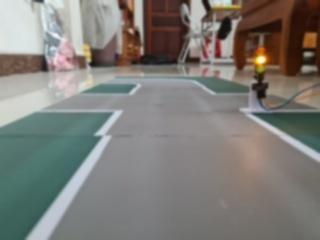yellow: (246, 40, 276, 85)
